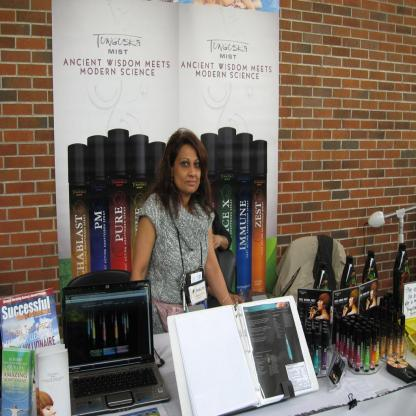board: (62, 281, 172, 412), (108, 128, 132, 271), (218, 127, 237, 292), (88, 136, 110, 270), (68, 142, 90, 276), (236, 132, 253, 292), (130, 132, 148, 272), (237, 266, 301, 303), (252, 139, 267, 295), (200, 132, 218, 219), (394, 242, 410, 310), (340, 255, 358, 291), (363, 250, 378, 284), (314, 261, 330, 292), (321, 330, 328, 375), (313, 332, 320, 376), (364, 329, 371, 372), (355, 329, 362, 372), (350, 325, 357, 368), (345, 322, 352, 364), (340, 318, 347, 357), (401, 314, 405, 357), (394, 310, 398, 353), (396, 324, 401, 358), (376, 324, 380, 366), (372, 328, 376, 370), (389, 326, 394, 357), (381, 328, 386, 359), (336, 316, 340, 352)
